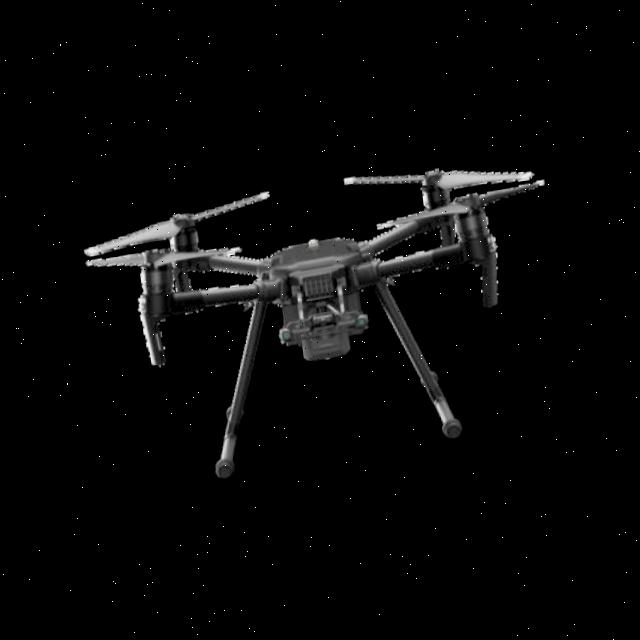drone: (0, 7, 640, 640)
